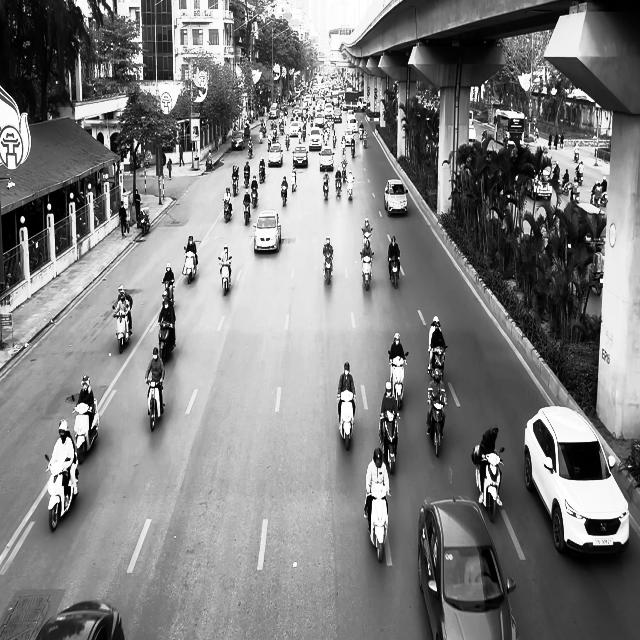bus: (494, 110, 525, 146)
car: (523, 404, 630, 558), (417, 495, 518, 639), (36, 600, 125, 639), (253, 210, 282, 253), (384, 178, 408, 215), (526, 169, 552, 200), (319, 145, 334, 171), (292, 144, 308, 167), (268, 142, 282, 167), (231, 130, 245, 150)
motorbike: (44, 453, 79, 531), (472, 445, 504, 523), (364, 484, 390, 562), (71, 397, 99, 463), (378, 411, 399, 474), (427, 396, 447, 457), (388, 350, 408, 409), (337, 390, 356, 450), (145, 378, 164, 432), (112, 304, 132, 354), (157, 320, 176, 362), (428, 345, 447, 382), (218, 257, 232, 296), (360, 252, 374, 290), (184, 247, 198, 284), (388, 255, 400, 288), (323, 252, 333, 284), (139, 208, 150, 235), (243, 198, 251, 225), (223, 199, 232, 223), (362, 227, 372, 248), (322, 172, 329, 199), (346, 177, 354, 200), (280, 185, 288, 206), (335, 175, 342, 198), (232, 174, 239, 196), (251, 185, 258, 207), (258, 164, 266, 183), (290, 172, 297, 192), (243, 168, 250, 188)
